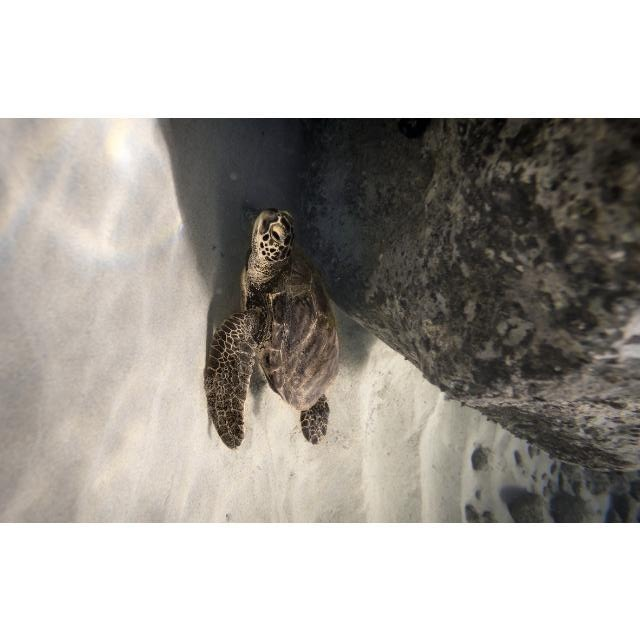turtle: (202, 205, 340, 452)
